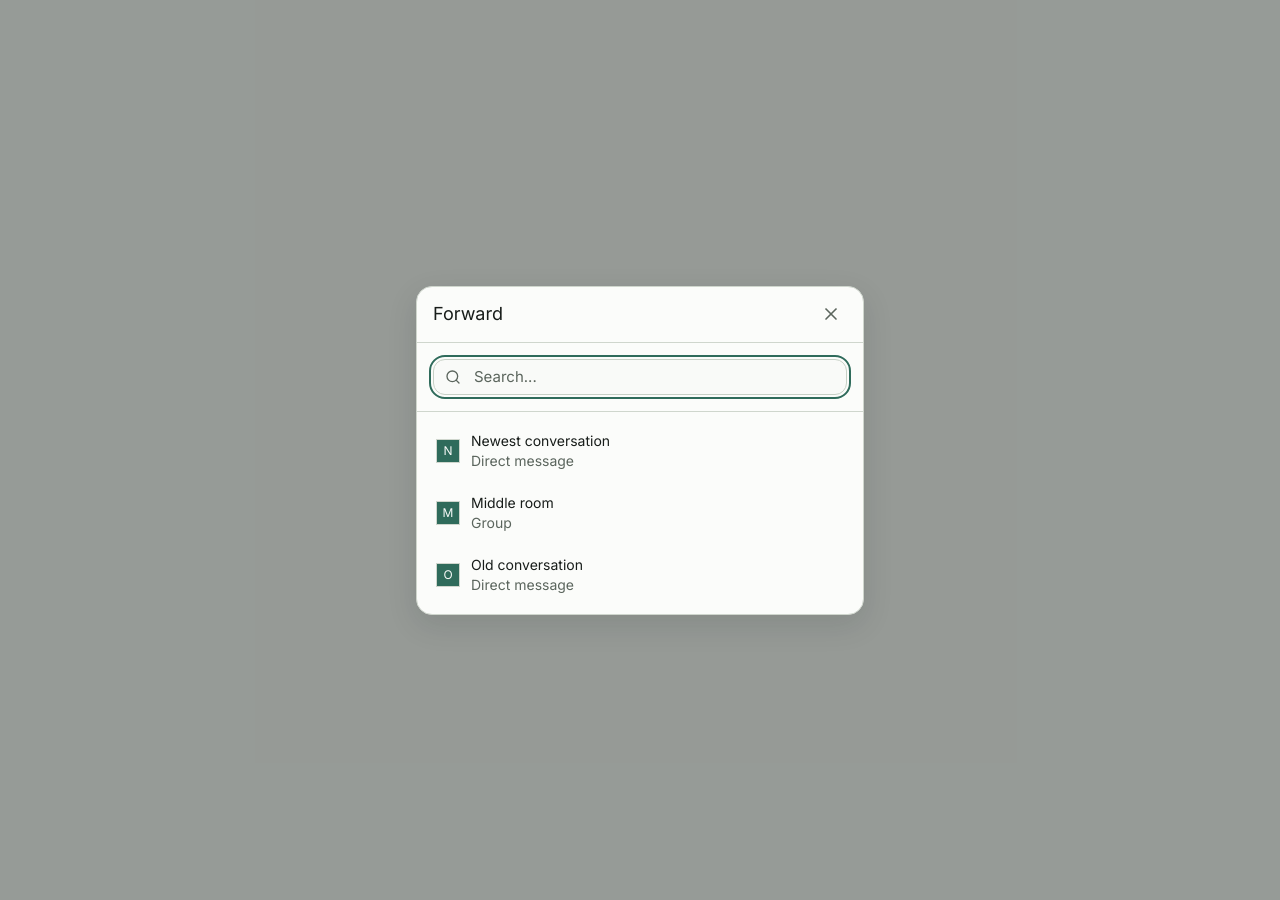
ForwardModal › exposes no results as a polite status
Step 1. Type "missing" into the field named "Search forwarding destinations" → (640, 376), box top-left (433, 358), bottom-right (847, 394)
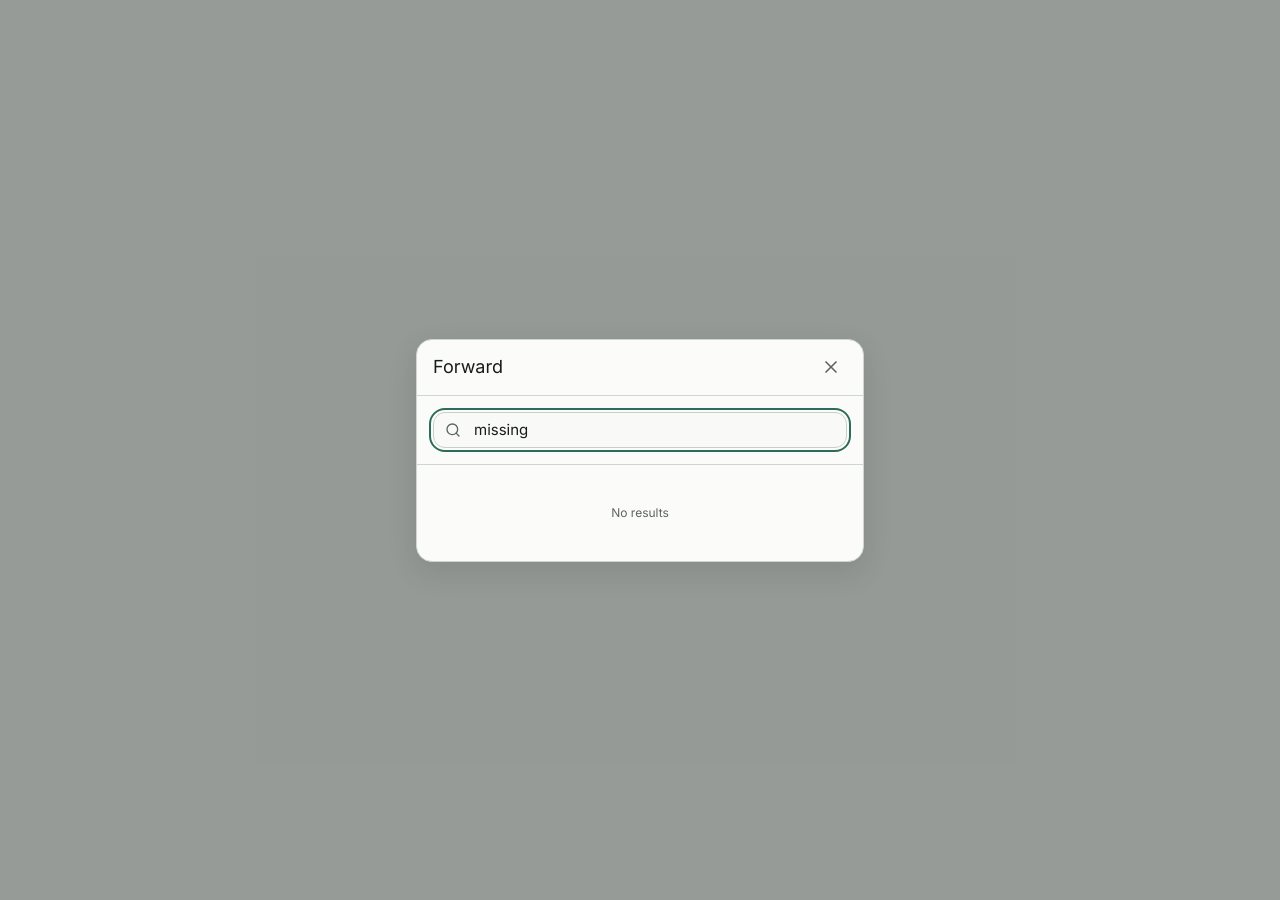
Expected: the message reads "No results", top-left (611, 504), bottom-right (669, 520)
